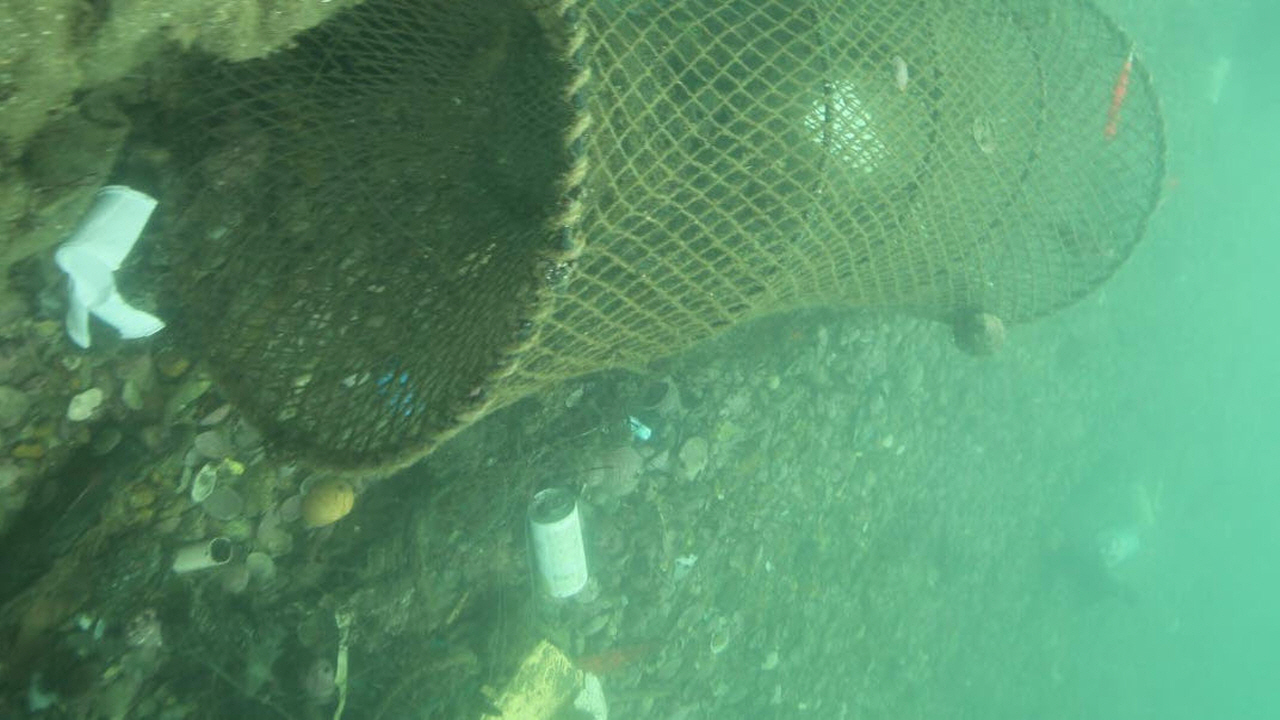spring fish trap: (152, 0, 1170, 480)
